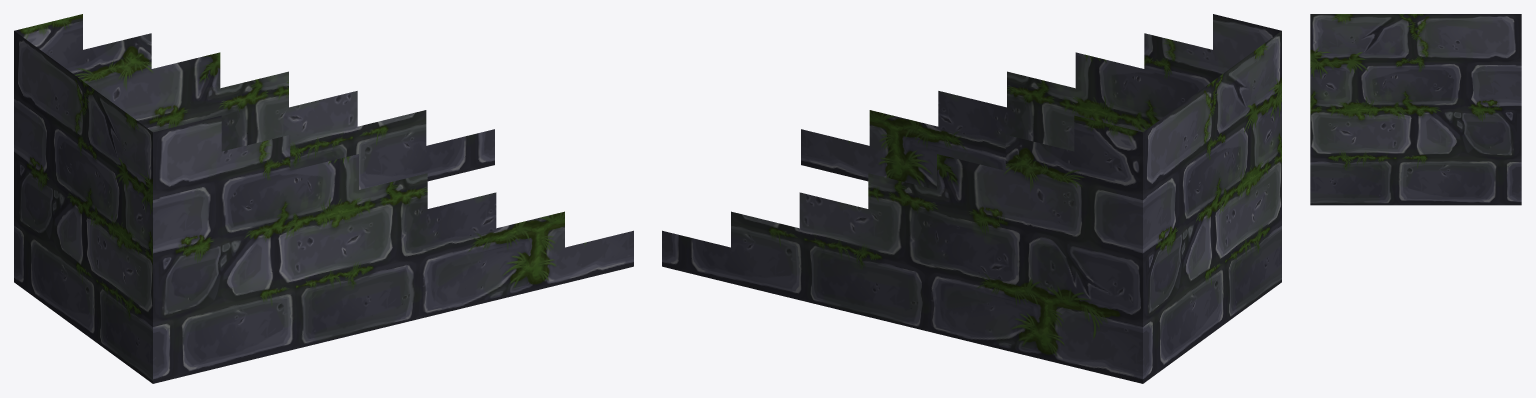
Rendered from MOD_Stairs_01_WallCover_3_half.fbx.
3 renders of one model, left to right at view 1: azimuth 30°, elevation 25°; view 2: azimuth 150°, elevation 25°; view 3: azimuth 270°, elevation 25°, orthographic. The views are drawn at different scales.
Parts seen in each view (by area): view 1: MOD_Stairs_01_WallCover_3_half; view 2: MOD_Stairs_01_WallCover_3_half; view 3: MOD_Stairs_01_WallCover_3_half.
Boxes of the visible parts, x1,y1,x2,y2 form: MOD_Stairs_01_WallCover_3_half: (14,14,633,383); MOD_Stairs_01_WallCover_3_half: (662,14,1281,383); MOD_Stairs_01_WallCover_3_half: (1310,14,1521,205).
Size of what is drawn, in the model's own units: 400 by 200 by 200.
